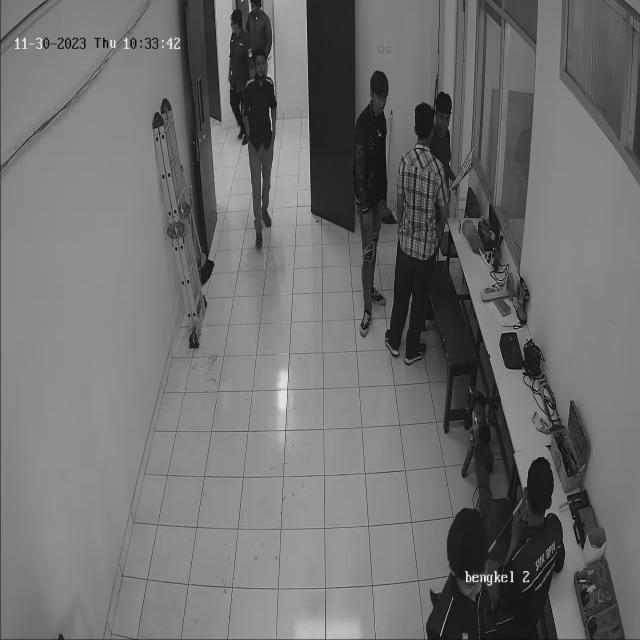person: (348, 67, 396, 368), (396, 86, 446, 364), (246, 44, 285, 274), (224, 9, 248, 138)
